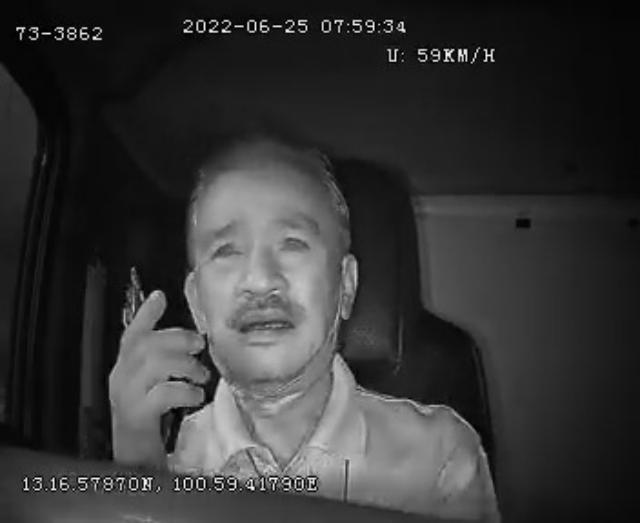PhoneUse: (113, 258, 193, 454)
SafeDriving: (203, 226, 250, 268), (272, 221, 317, 262)
